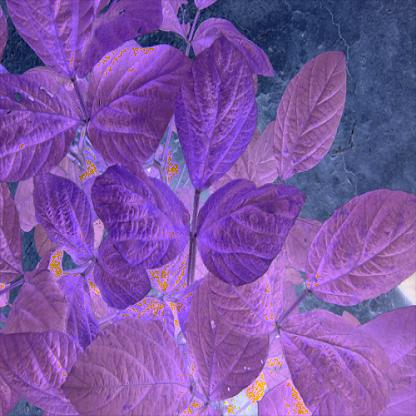Soyabean leaf: (174, 28, 259, 193), (87, 40, 195, 169), (58, 314, 195, 415), (185, 250, 271, 408), (306, 187, 415, 306), (280, 308, 400, 415), (196, 176, 307, 288), (89, 161, 191, 273), (272, 47, 347, 182), (1, 72, 79, 181), (7, 1, 94, 75), (30, 169, 96, 266)
